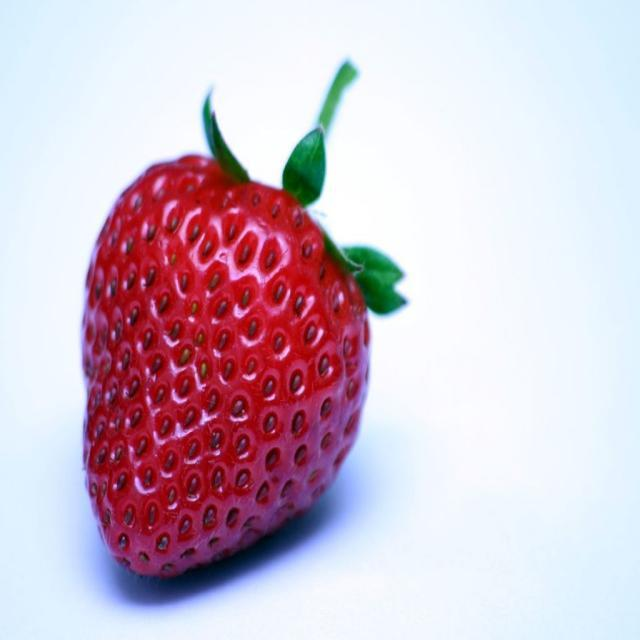Strawberry: (65, 120, 392, 604)
